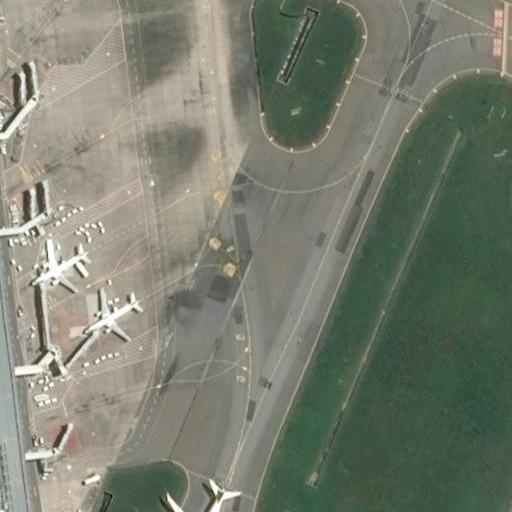Aircraft: (163, 472, 261, 512), (82, 288, 150, 342), (34, 236, 97, 291)
